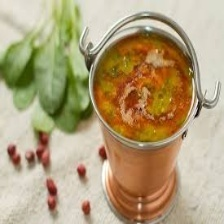dal: (90, 28, 199, 146)
